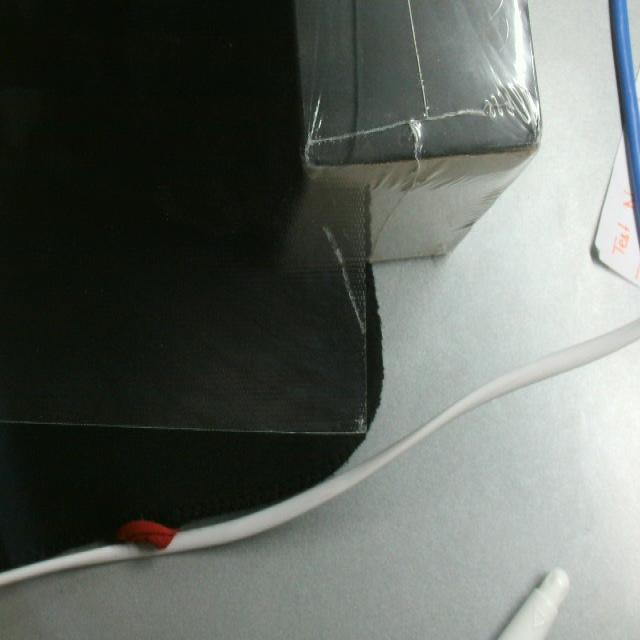scratch: (315, 210, 370, 345)
very small scratch: (352, 405, 372, 437)
